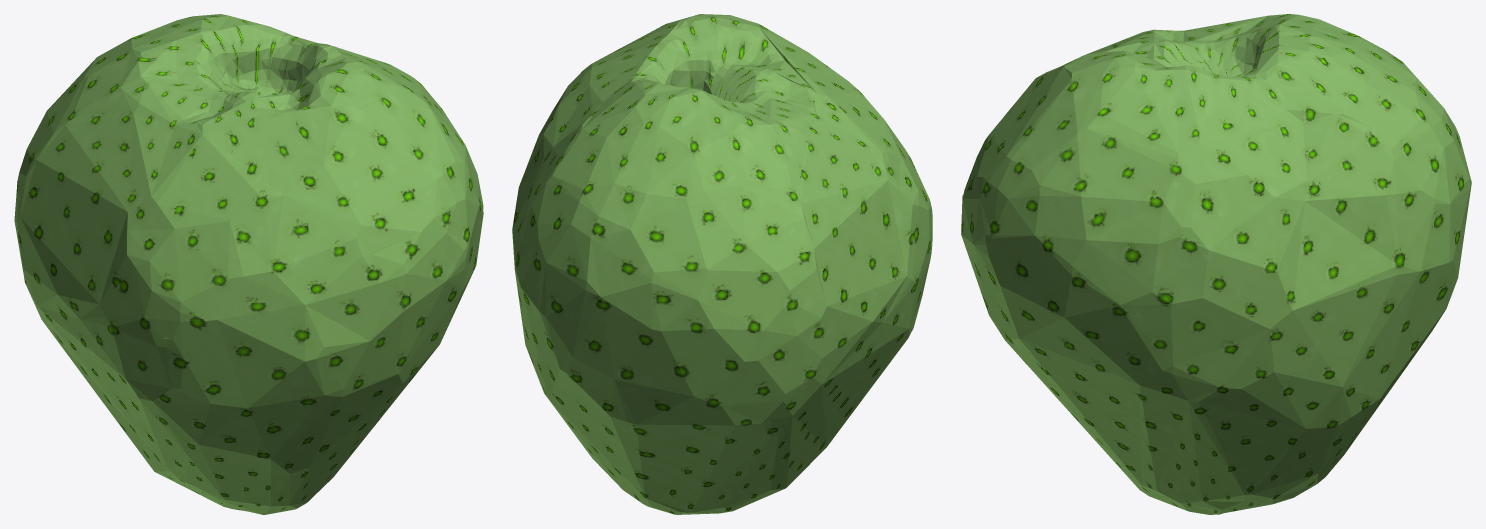
3 renders of one model, left to right at view 1: azimuth 30°, elevation 25°; view 2: azimuth 150°, elevation 25°; view 3: azimuth 270°, elevation 25°, orthographic. The views are drawn at different scales.
Visible parts, largest first — view 1: _001_Meshed; view 2: _001_Meshed; view 3: _001_Meshed.
Part boxes in pixels (bbox=[...]): _001_Meshed: bbox=[14, 14, 483, 514]; _001_Meshed: bbox=[512, 14, 932, 514]; _001_Meshed: bbox=[961, 14, 1471, 514].
Size of the model in its own units: 0.0955 by 0.1113 by 0.1115.
Materials: 1 (1 with a texture image).
